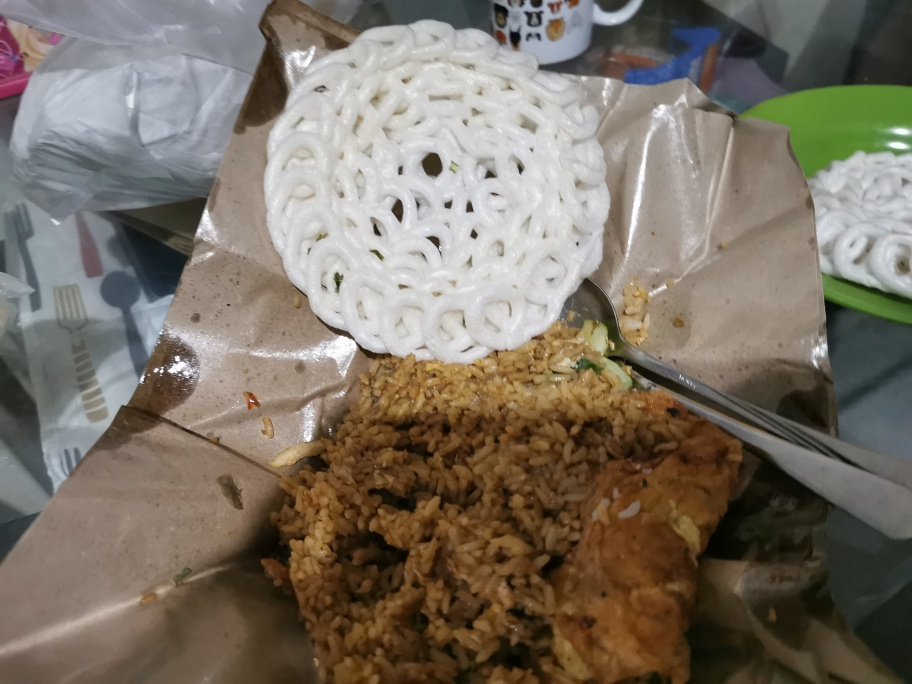kerupuk: (261, 22, 611, 353)
nasi goreng: (281, 350, 748, 684)
